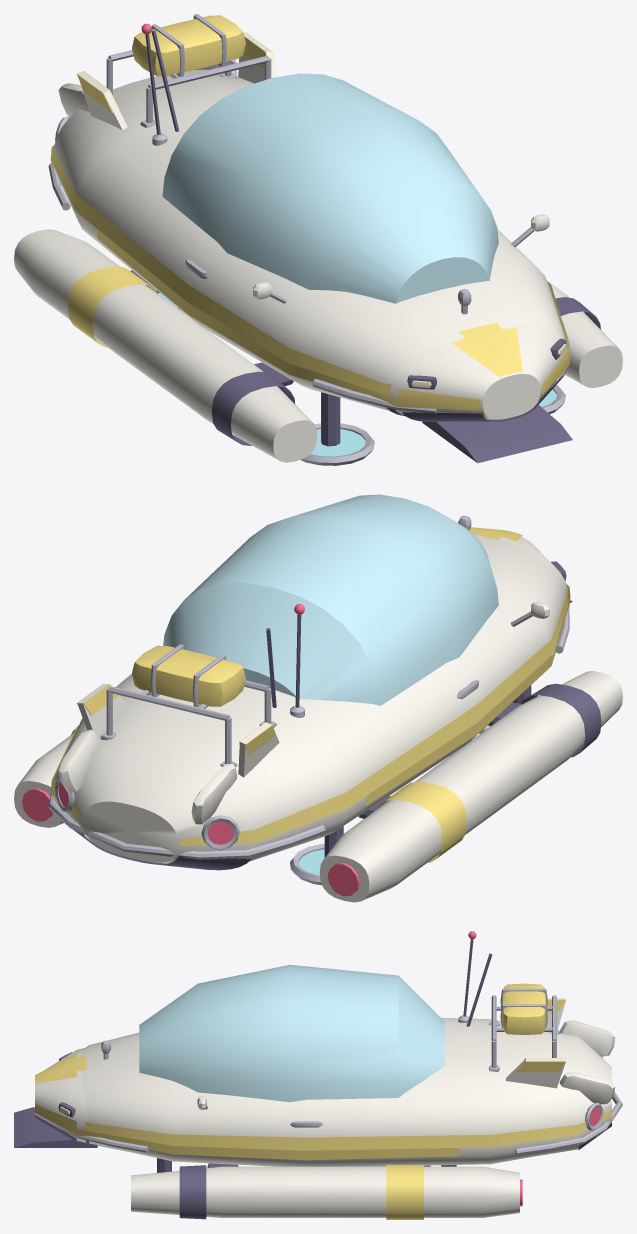
File: hovercar.glb
3 views of the same model, one above another, from view 1: azimuth 30°, elevation 25°; view 2: azimuth 150°, elevation 25°; view 3: azimuth 270°, elevation 25° (orthographic). The views are drawn at different scales.
Parts seen in each view (by area): view 1: canopy.001, hull.001, podL, hull, swoosh, chine, splitter, luggage, podR, podBandL, spine, podIntakeL (+9 smaller); view 2: hull.001, canopy.001, podL, swoosh, luggage, podBandL, bumperR, chine, podR, podIntakeL, fin1.001, fin-1.001 (+9 smaller); view 3: hull.001, canopy.001, podR, swoosh, chine, hull, podBandR, luggage, splitter, podIntakeR, fin1.001, fin-1.001 (+5 smaller).
Part boxes in pixels (x1=…): canopy.001: x1=162, y1=73, x2=498, y2=303; hull.001: x1=53, y1=69, x2=565, y2=407; podL: x1=14, y1=229, x2=317, y2=462; hull: x1=189, y1=303, x2=567, y2=419; swoosh: x1=50, y1=145, x2=568, y2=394; chine: x1=96, y1=228, x2=570, y2=410; splitter: x1=422, y1=405, x2=572, y2=463; luggage: x1=132, y1=15, x2=245, y2=76; podR: x1=547, y1=281, x2=622, y2=387; podBandL: x1=68, y1=266, x2=158, y2=347; spine: x1=452, y1=322, x2=522, y2=377; podIntakeL: x1=211, y1=371, x2=294, y2=445; hull.001: x1=53, y1=534, x2=565, y2=863; canopy.001: x1=163, y1=494, x2=498, y2=705; podL: x1=319, y1=671, x2=622, y2=902; swoosh: x1=50, y1=591, x2=568, y2=846; luggage: x1=132, y1=645, x2=245, y2=706; podBandL: x1=378, y1=781, x2=466, y2=862; bumperR: x1=48, y1=793, x2=325, y2=859; chine: x1=365, y1=583, x2=570, y2=805; podR: x1=14, y1=733, x2=73, y2=827; podIntakeL: x1=521, y1=683, x2=601, y2=757; fin1.001: x1=58, y1=729, x2=100, y2=793; fin-1.001: x1=191, y1=764, x2=237, y2=824; hull.001: x1=81, y1=1017, x2=611, y2=1166; canopy.001: x1=139, y1=964, x2=444, y2=1102; podR: x1=131, y1=1166, x2=519, y2=1217; swoosh: x1=85, y1=1110, x2=611, y2=1150; chine: x1=35, y1=1104, x2=459, y2=1160; hull: x1=35, y1=1048, x2=306, y2=1166; podBandR: x1=386, y1=1164, x2=423, y2=1219; luggage: x1=502, y1=983, x2=546, y2=1034; splitter: x1=14, y1=1107, x2=97, y2=1147; podIntakeR: x1=179, y1=1165, x2=206, y2=1219; fin1.001: x1=559, y1=1072, x2=615, y2=1104; fin-1.001: x1=559, y1=1020, x2=615, y2=1056.
Bounding box in the file's own units: 3.92 × 2.71 × 7.28.
